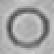no answer: (4, 7, 51, 48)
